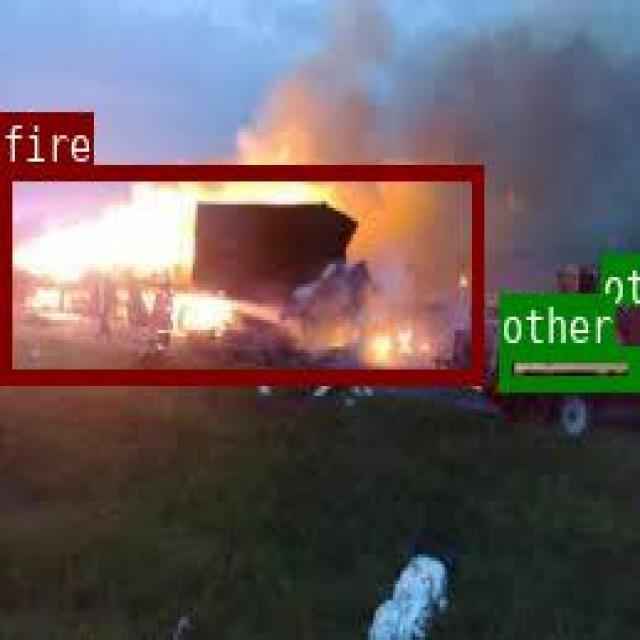fire: (0, 161, 479, 379)
